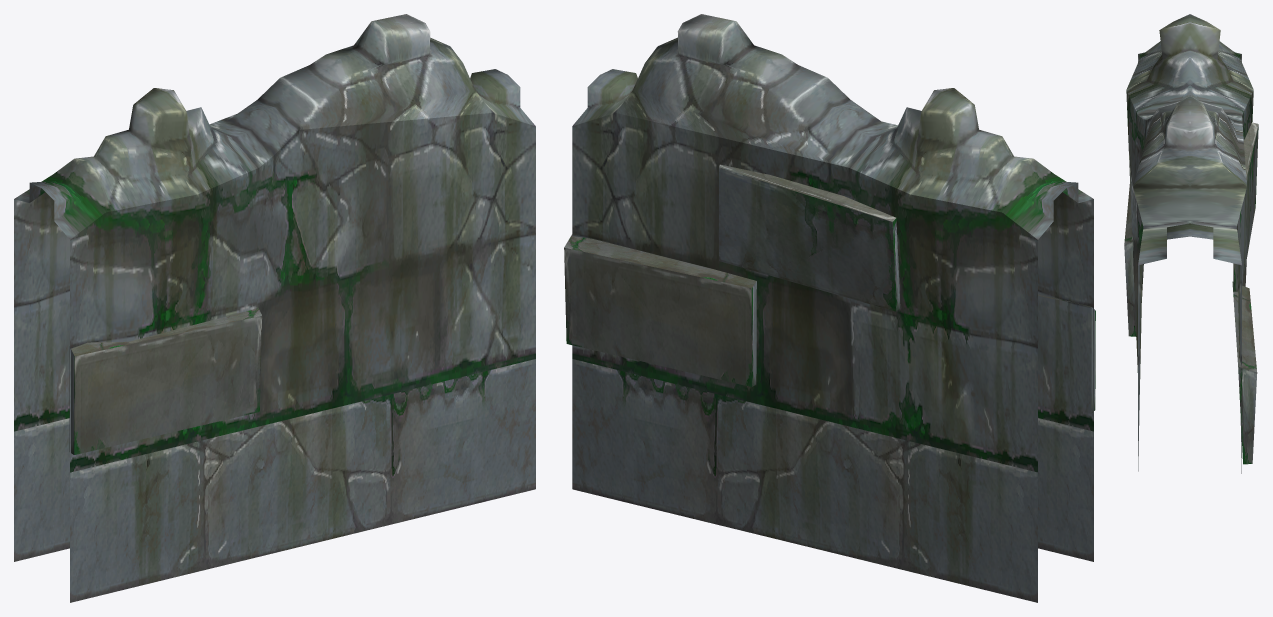
The model's file is stemple_half_straight_06.fbx.
The picture shows the model from 3 angles, left to right: view 1: azimuth 30°, elevation 25°; view 2: azimuth 150°, elevation 25°; view 3: azimuth 270°, elevation 25°; orthographic projection. The views are drawn at different scales.
Parts seen in each view (by area): view 1: stemple_half_straight_06-0; view 2: stemple_half_straight_06-0; view 3: stemple_half_straight_06-0.
Boxes of the visible parts, bbox=[...] form: stemple_half_straight_06-0: bbox=[14, 14, 535, 602]; stemple_half_straight_06-0: bbox=[564, 14, 1095, 602]; stemple_half_straight_06-0: bbox=[1124, 14, 1258, 473].
Bounding box in the file's own units: 4.01 × 3.94 × 1.07.
